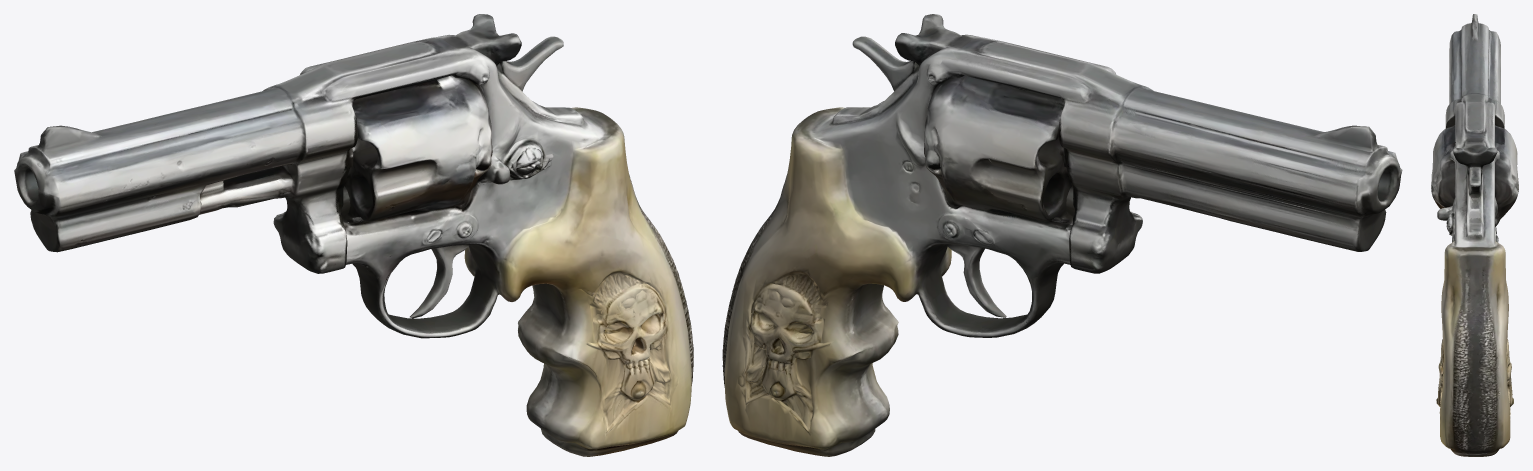
The model's file is rn_preacher.glb.
The picture shows the model from 3 angles, left to right: view 1: azimuth 30°, elevation 25°; view 2: azimuth 150°, elevation 25°; view 3: azimuth 270°, elevation 25°; orthographic projection. The views are drawn at different scales.
Parts seen in each view (by area): view 1: tripo_node_88ff105c-830c-4376-b61c-c27523211947; view 2: tripo_node_88ff105c-830c-4376-b61c-c27523211947; view 3: tripo_node_88ff105c-830c-4376-b61c-c27523211947.
Part boxes in pixels (x1,y1,x2,y2): tripo_node_88ff105c-830c-4376-b61c-c27523211947: (14, 14, 693, 456); tripo_node_88ff105c-830c-4376-b61c-c27523211947: (722, 14, 1402, 456); tripo_node_88ff105c-830c-4376-b61c-c27523211947: (1431, 14, 1518, 456).
Size of the model in its own units: 0.9804 by 0.6379 by 0.1909.
1 material, 1 textured.
